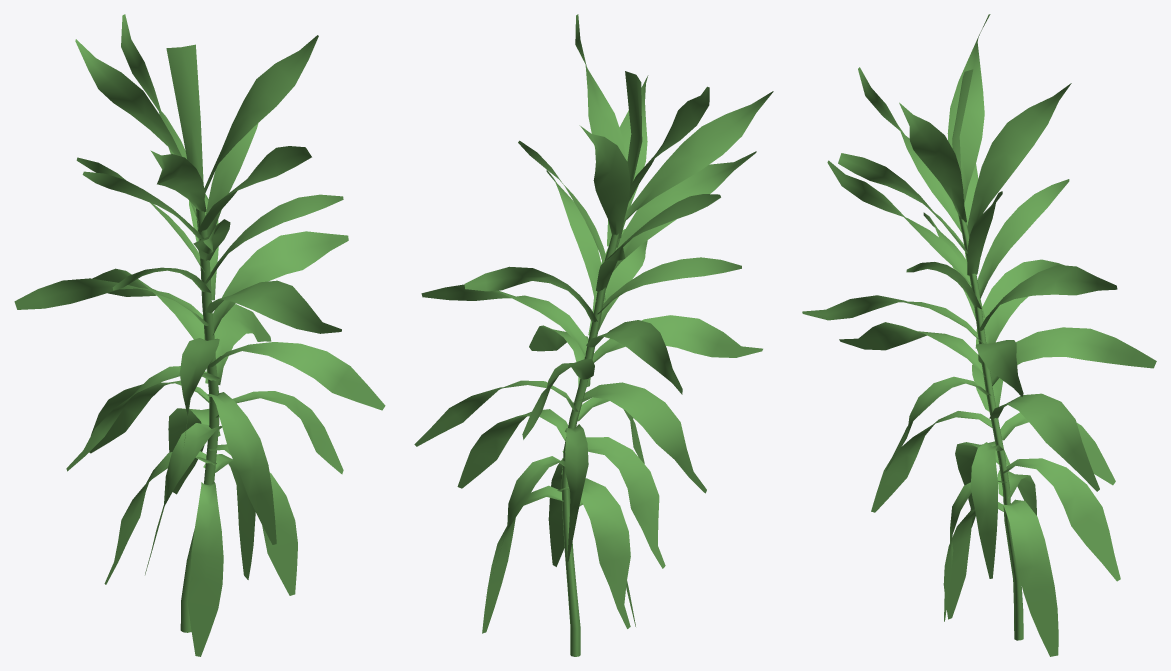
The model's file is SM_Dracaena_01.glb.
3 views of the same model, side by side, from view 1: azimuth 30°, elevation 25°; view 2: azimuth 150°, elevation 25°; view 3: azimuth 270°, elevation 25° (orthographic). The views are drawn at different scales.
Parts seen in each view (by area): view 1: SM_Dracaena_01; view 2: SM_Dracaena_01; view 3: SM_Dracaena_01.
Part boxes in pixels (x1=…): SM_Dracaena_01: x1=14, y1=14, x2=385, y2=656; SM_Dracaena_01: x1=414, y1=14, x2=773, y2=656; SM_Dracaena_01: x1=802, y1=14, x2=1156, y2=656.
Size of what is drawn, in the model's own units: 11.12 by 21.86 by 12.35.
